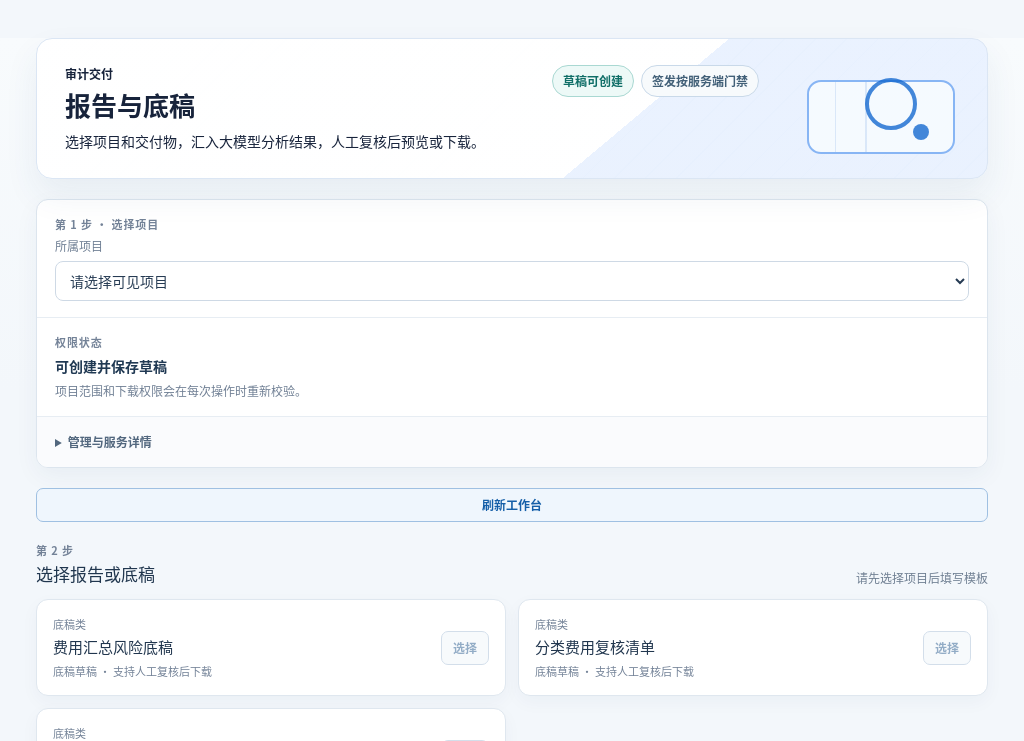
Scenario: ReplicaReportWorkbench › shows a truthful project handoff, generation boundaries and audit durability after success
This screenshot has width=1024, height=741.
Select "Alpha 医保专项" in the dropdown labelled "所属项目": point(512, 281) x1=55 y1=261 x2=969 y2=301
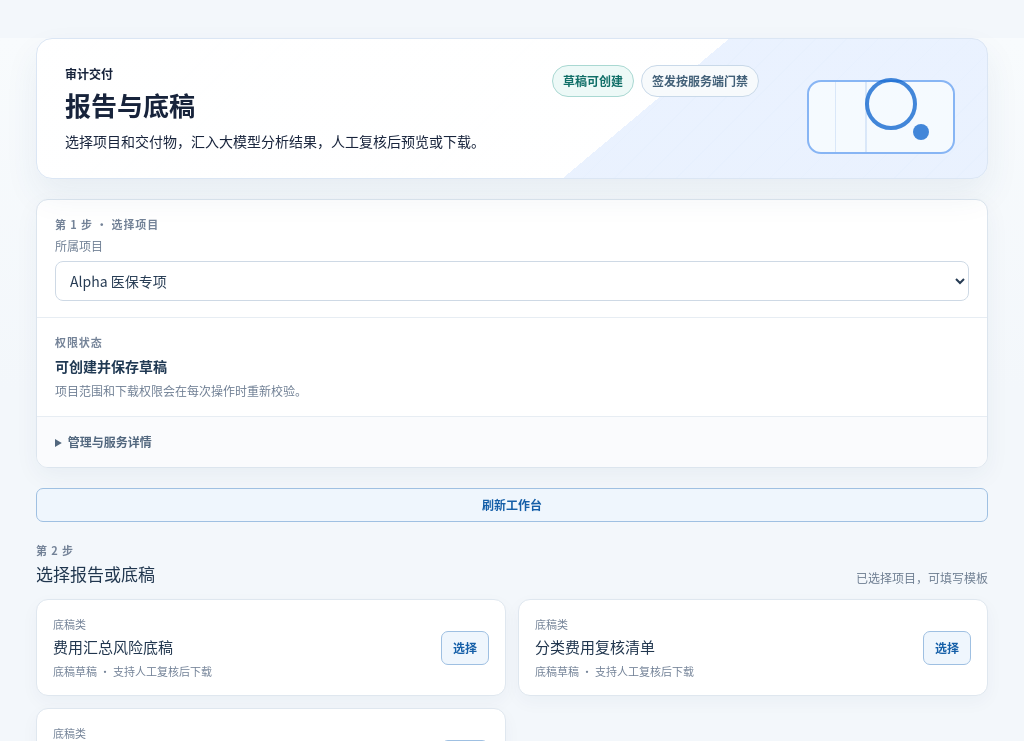
expect the button with aria-label "填写模板：费用汇总风险底稿" is enabled: met
Click the button with aria-label "填写模板：费用汇总风险底稿": point(465, 648) x1=441 y1=631 x2=489 y2=665
(page scrolled)
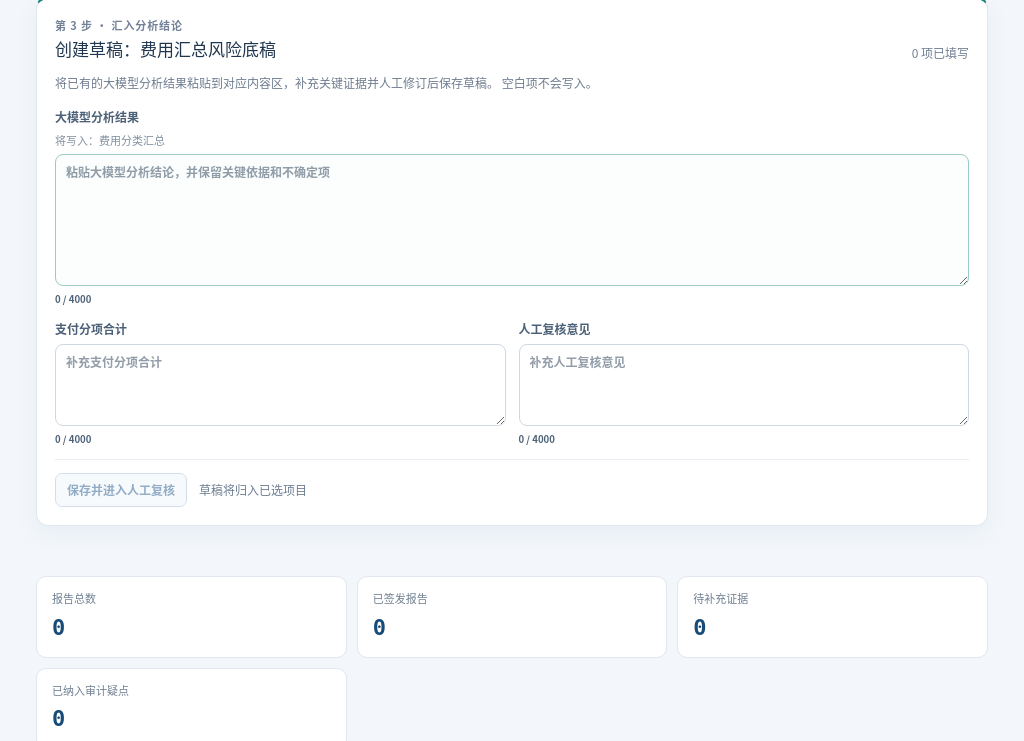
In the text box labelled "人工复核意见": point(744, 385) x1=518 y1=344 x2=969 y2=426, type "待主任复核"
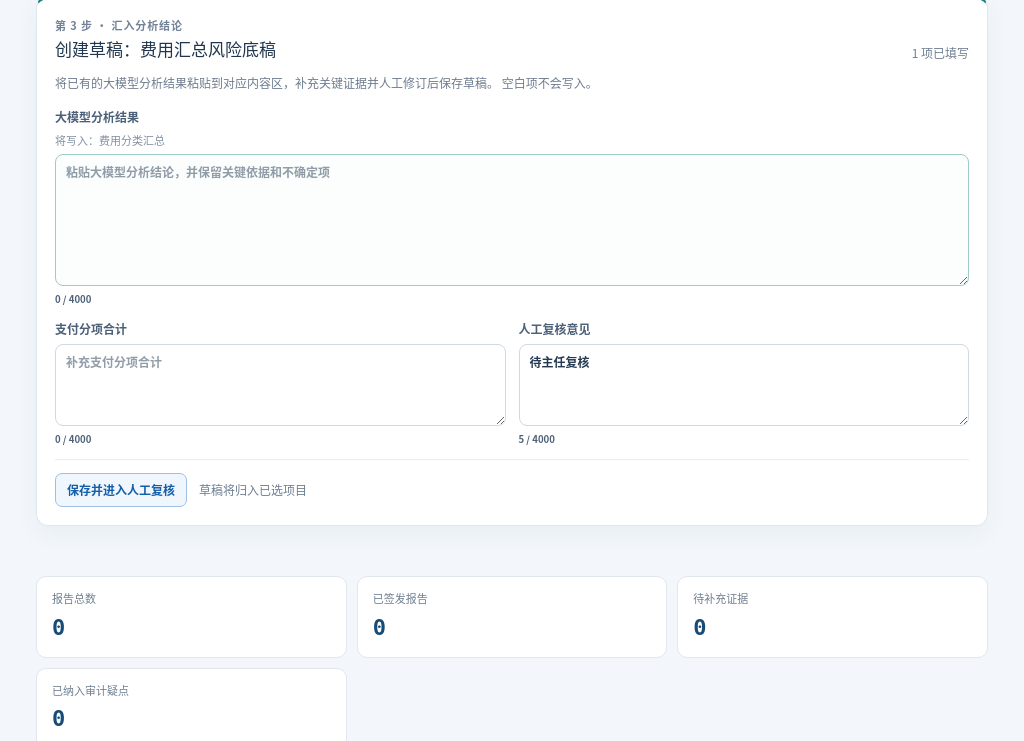
Submit the form named "费用汇总风险底稿草稿", box x1=55 y1=108 x2=969 y2=507
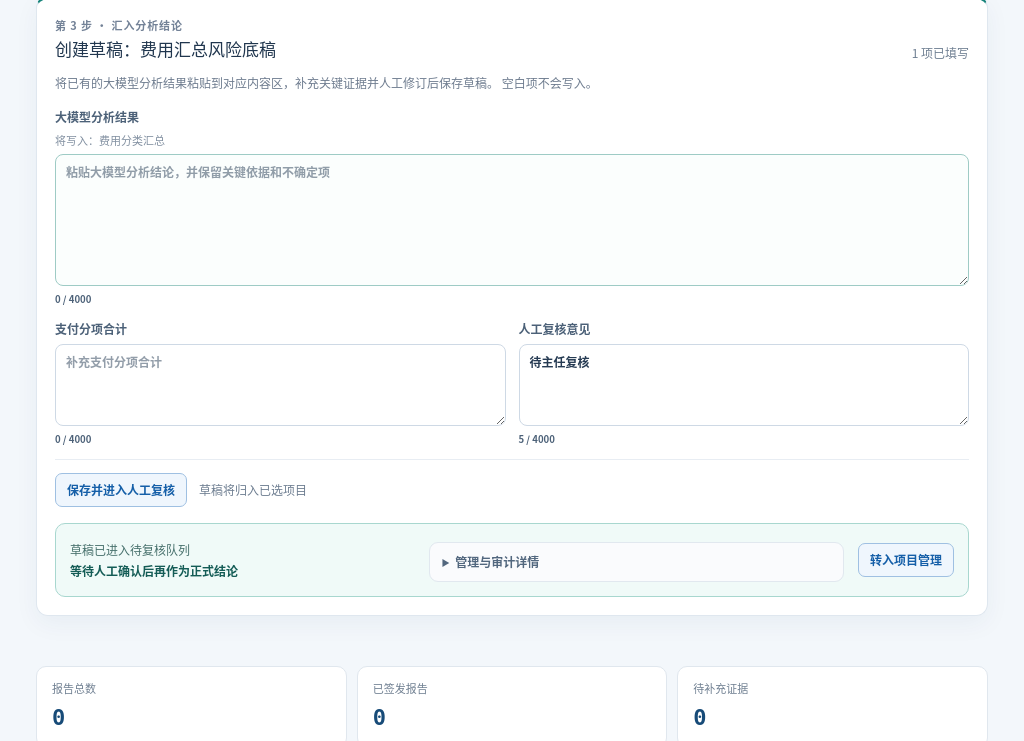
expect the text "formal_report_created=false" is shown: met, box x1=429 y1=542 x2=844 y2=582
